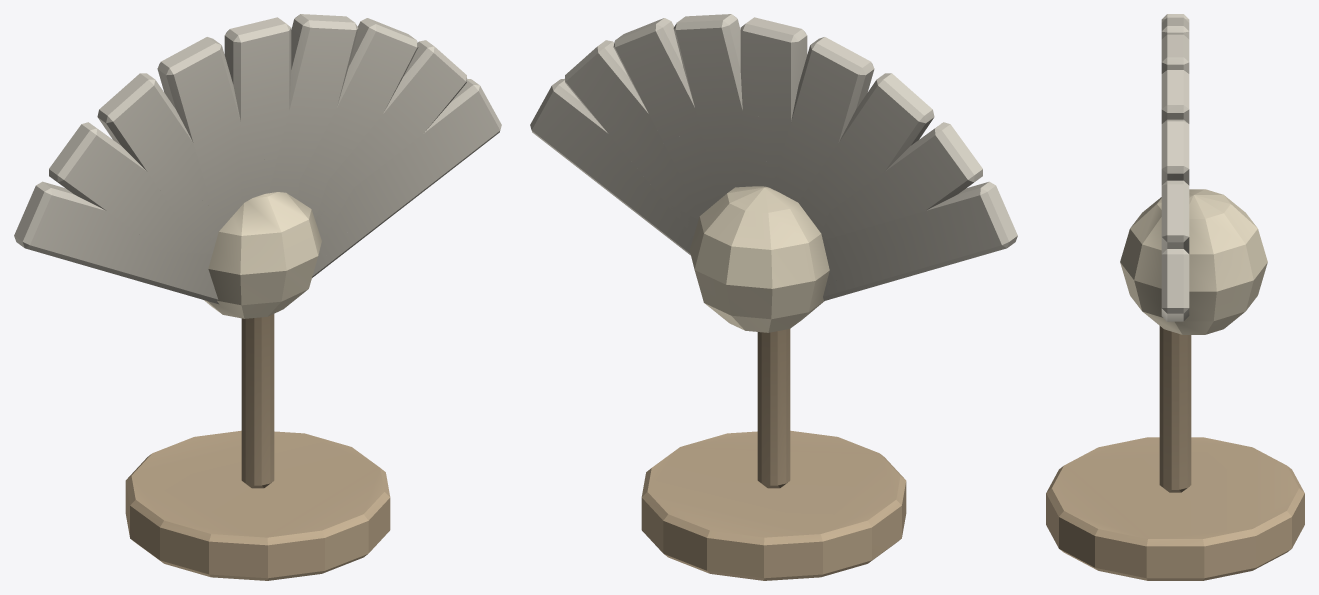
The model's file is furn_shell_lamp__cream.glb.
3 views of the same model, side by side, from view 1: azimuth 30°, elevation 25°; view 2: azimuth 150°, elevation 25°; view 3: azimuth 270°, elevation 25° (orthographic). The views are drawn at different scales.
Bounding box in the file's own units: 0.5789 × 0.578 × 0.28.
